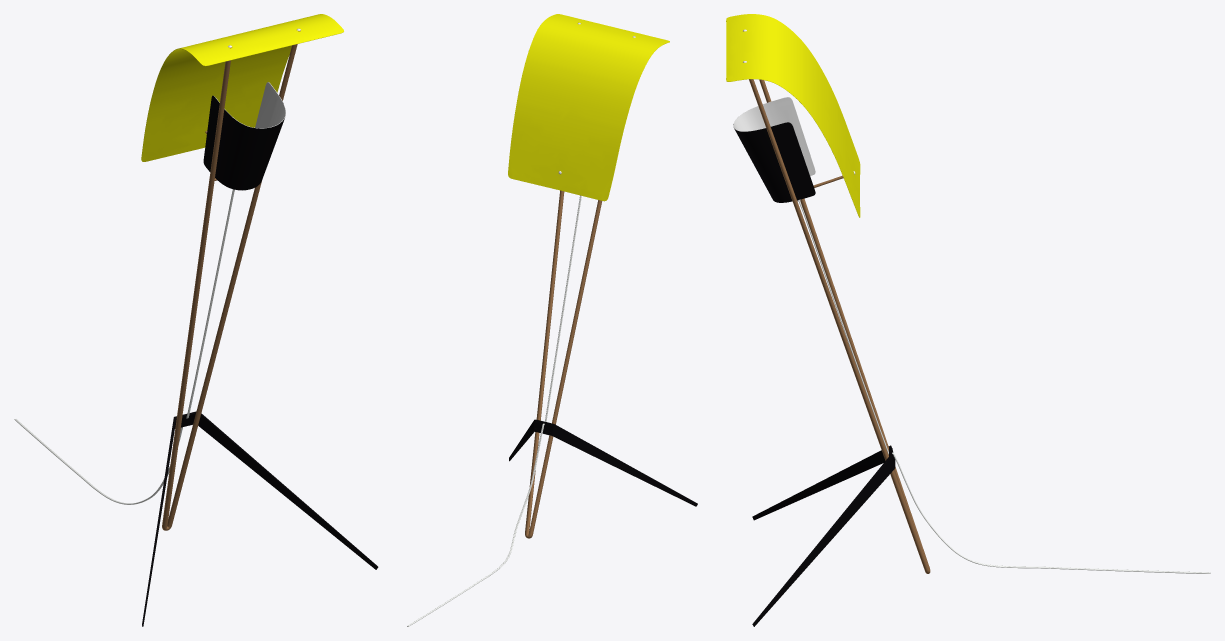
The model's file is designconnected-kite-floor-lamp-8490.optimized.glb.
3 views of the same model, side by side, from view 1: azimuth 30°, elevation 25°; view 2: azimuth 150°, elevation 25°; view 3: azimuth 270°, elevation 25° (orthographic). The views are drawn at different scales.
Visible parts, largest first — view 1: Pierre_Guariche_Kite; view 2: Pierre_Guariche_Kite; view 3: Pierre_Guariche_Kite.
Boxes of the visible parts, x1=… form: Pierre_Guariche_Kite: x1=14, y1=14, x2=378, y2=626; Pierre_Guariche_Kite: x1=407, y1=14, x2=697, y2=626; Pierre_Guariche_Kite: x1=726, y1=14, x2=1210, y2=626.
Size of the model in its own units: 0.5657 by 1.29 by 1.07.
Materials: 2 (1 with a texture image).
